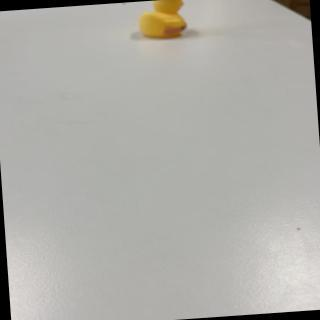duck_specialty: (134, 1, 191, 41)
